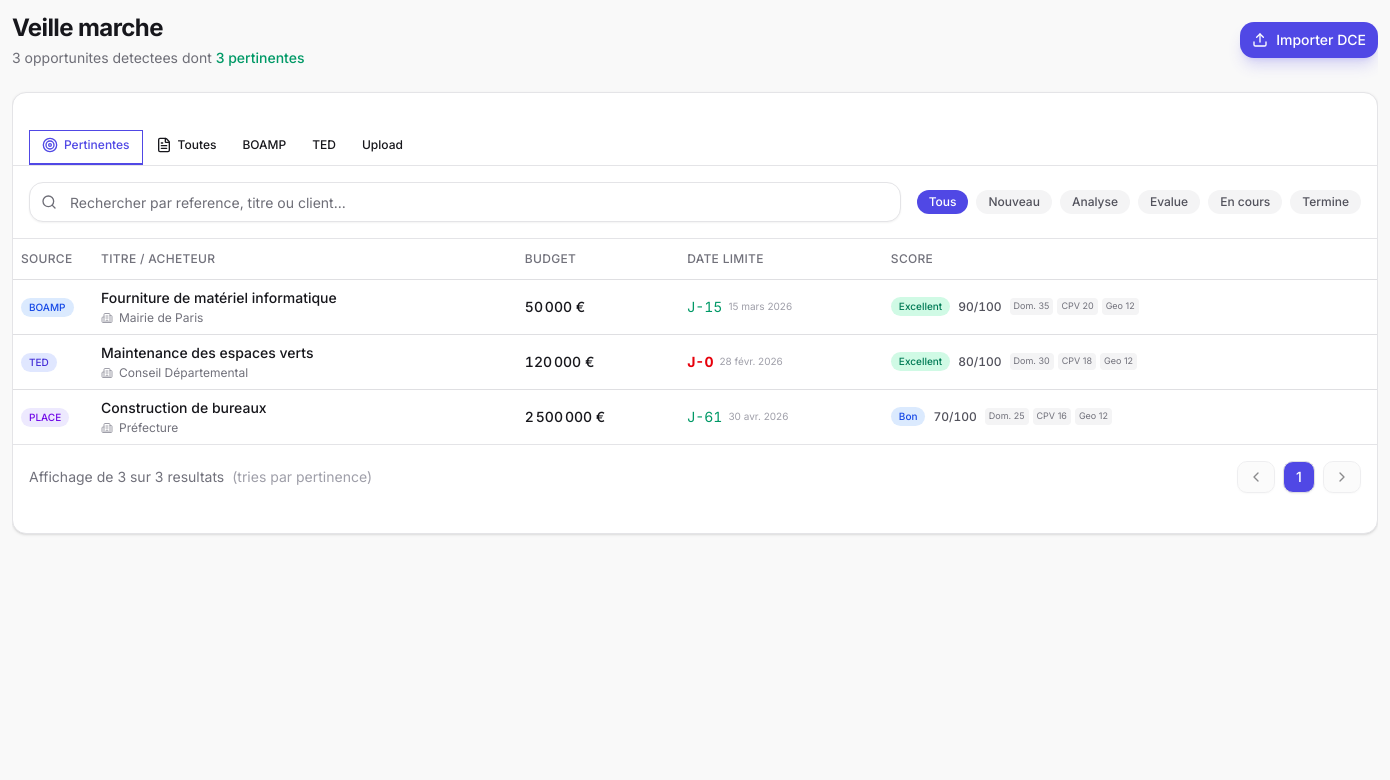
Test case: OpportunitiesPage - Liste des opportunites › Filtrage et recherche › filtre les résultats lors de la recherche
This screenshot has width=1390, height=780.
Expected: the text "Fourniture de matériel informatique" is shown, top-left (101, 288), bottom-right (337, 306)
In the field with placeholder "Rechercher par reference, titre ou client...": (465, 202) top-left (29, 182), bottom-right (901, 222), type "espaces verts"
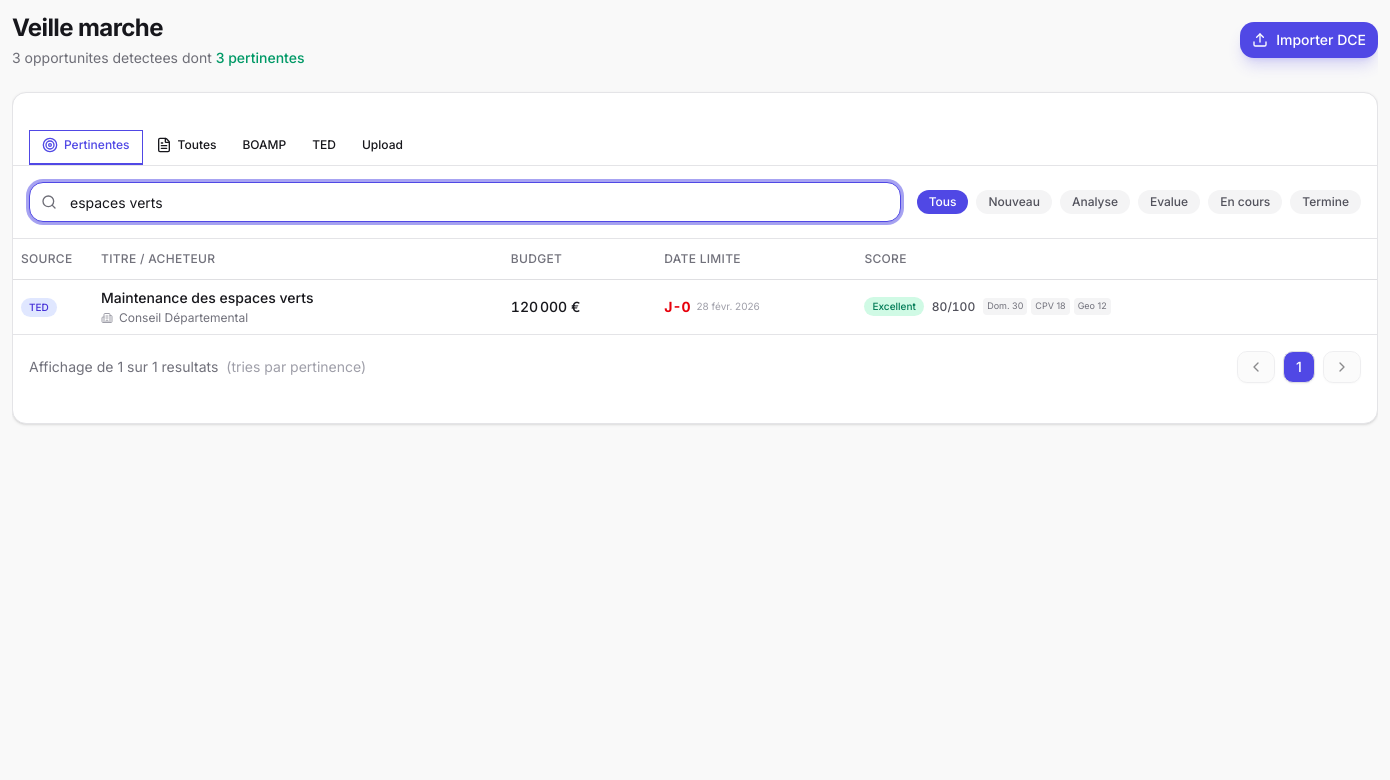
Expected: the text "Maintenance des espaces verts" is shown, top-left (101, 288), bottom-right (313, 306)
Expected: the text "Fourniture de matériel informatique" is gone
